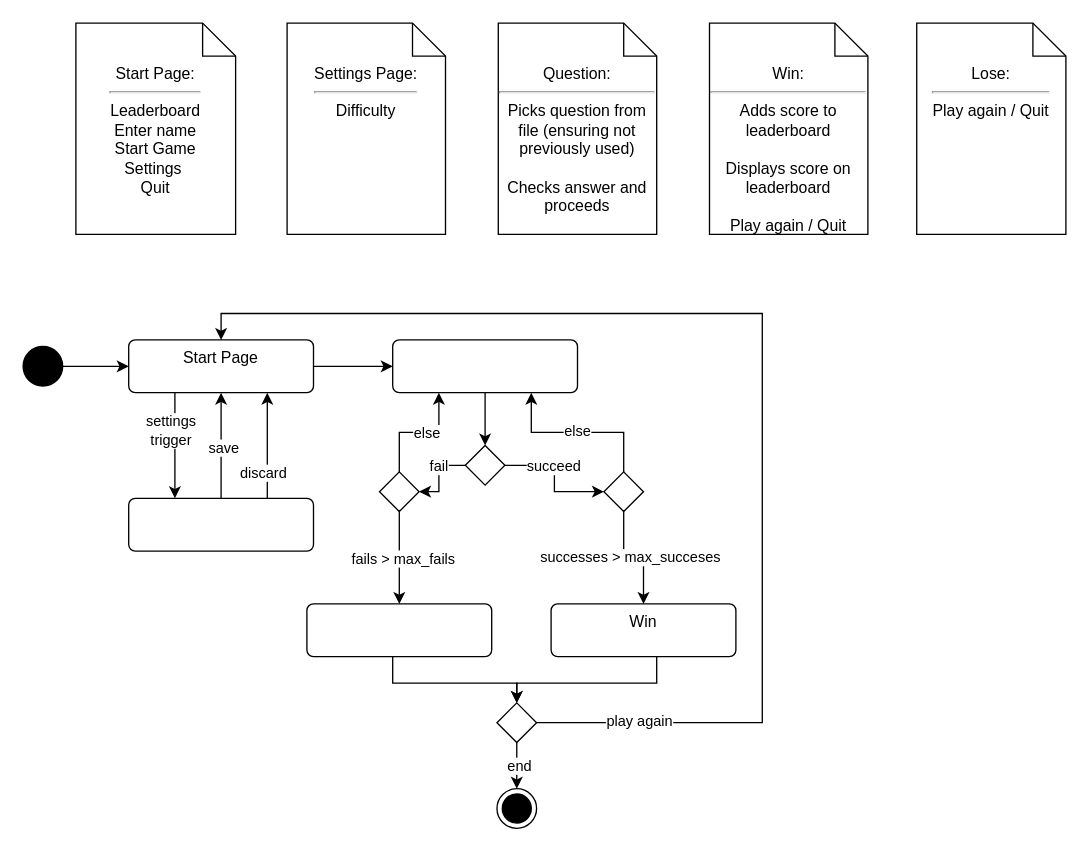
The diagram is 1089 pixels wide and 851 high, and some of its shapes have lost their labels. The box of each missing label's shape, as (x1, y1, x2, y2) in pixels:
Lose: (306, 603, 492, 657)
Question: (391, 339, 578, 393)
Settings Page: (127, 497, 314, 551)
